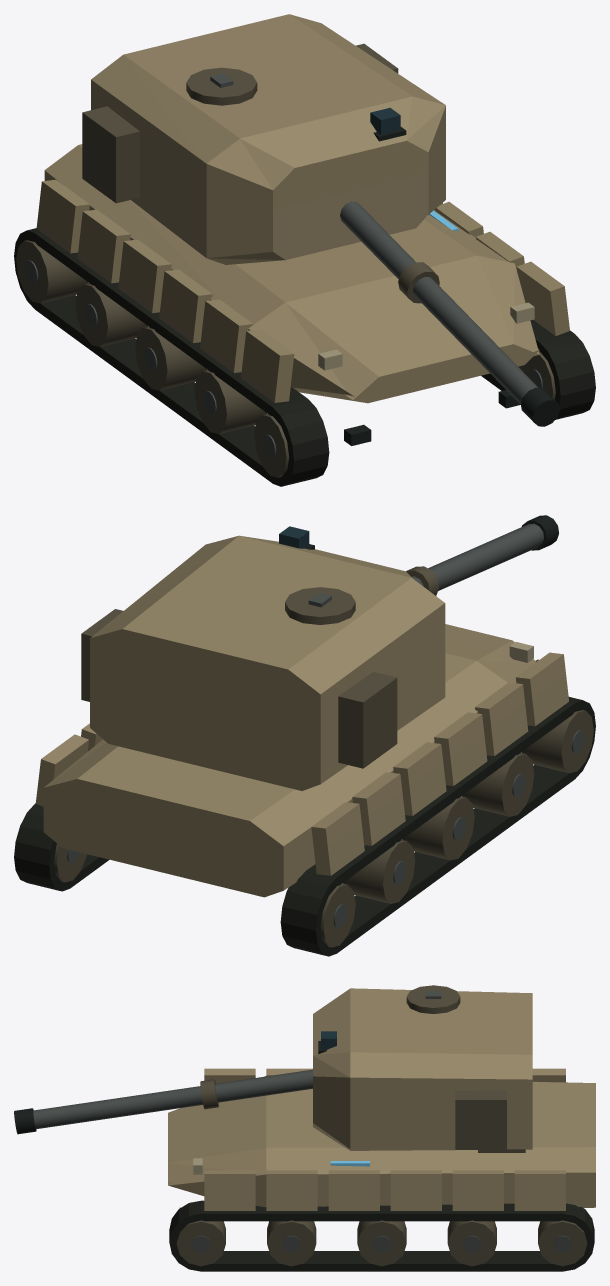
Rendered from artillery-lod.glb.
3 renders of one model, top to bottom at view 1: azimuth 30°, elevation 25°; view 2: azimuth 150°, elevation 25°; view 3: azimuth 270°, elevation 25°, orthographic. The views are drawn at different scales.
Visible parts, largest first — view 1: equipment (×3); view 2: equipment (×3); view 3: equipment (×3).
Boxes of the visible parts, <box> form: equipment (×3): <box>14,14,595,486</box>; equipment (×3): <box>14,515,595,956</box>; equipment (×3): <box>14,985,595,1271</box>.
Size of the model in its own units: 3.44 by 2.84 by 7.34.
